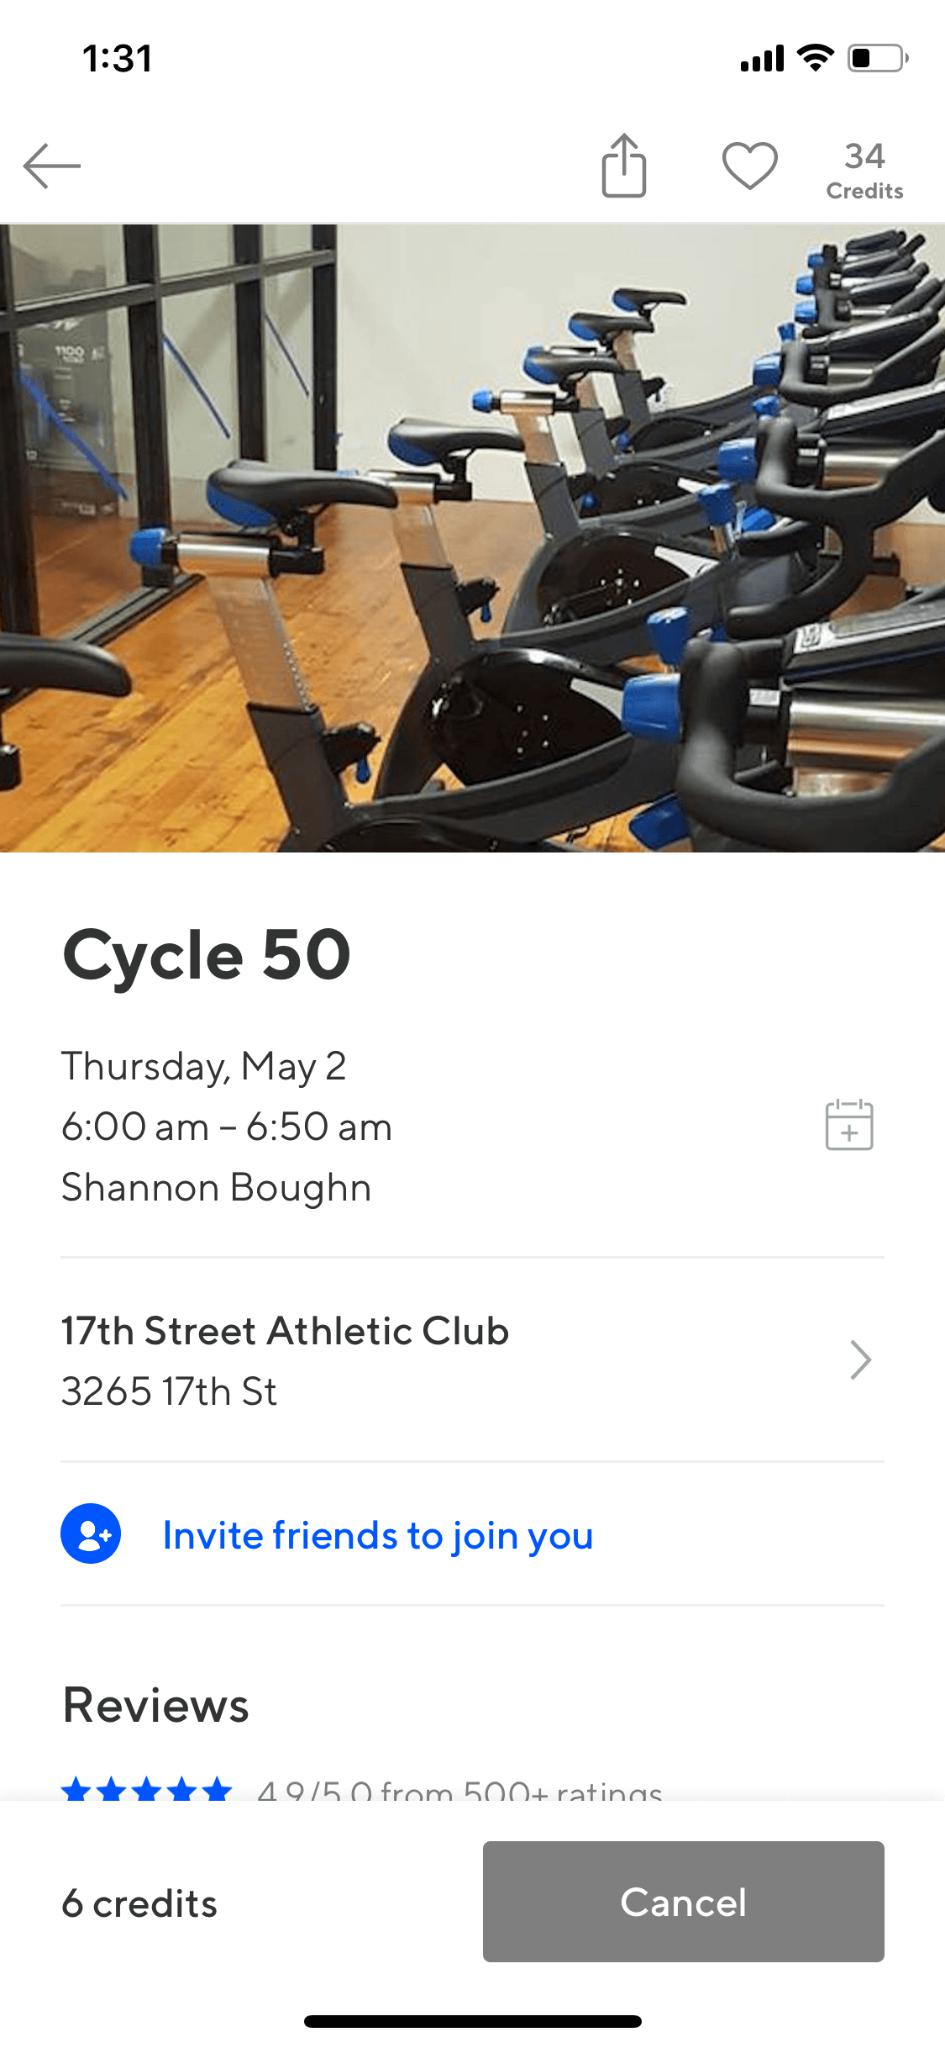Buttons: (44, 1482, 627, 1593), (482, 1830, 893, 1974), (814, 110, 919, 214), (700, 110, 798, 212), (7, 115, 102, 216), (583, 114, 667, 213), (807, 1081, 893, 1173)
Rating: (51, 1757, 384, 1816)
